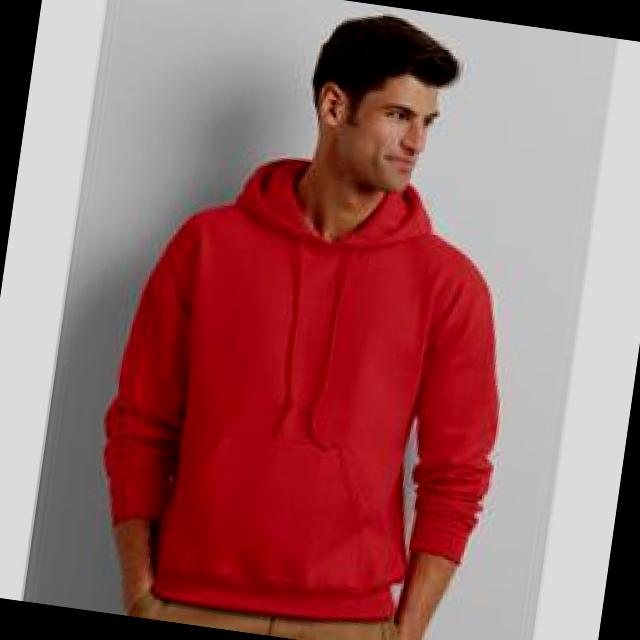sweater: (80, 137, 532, 640)
